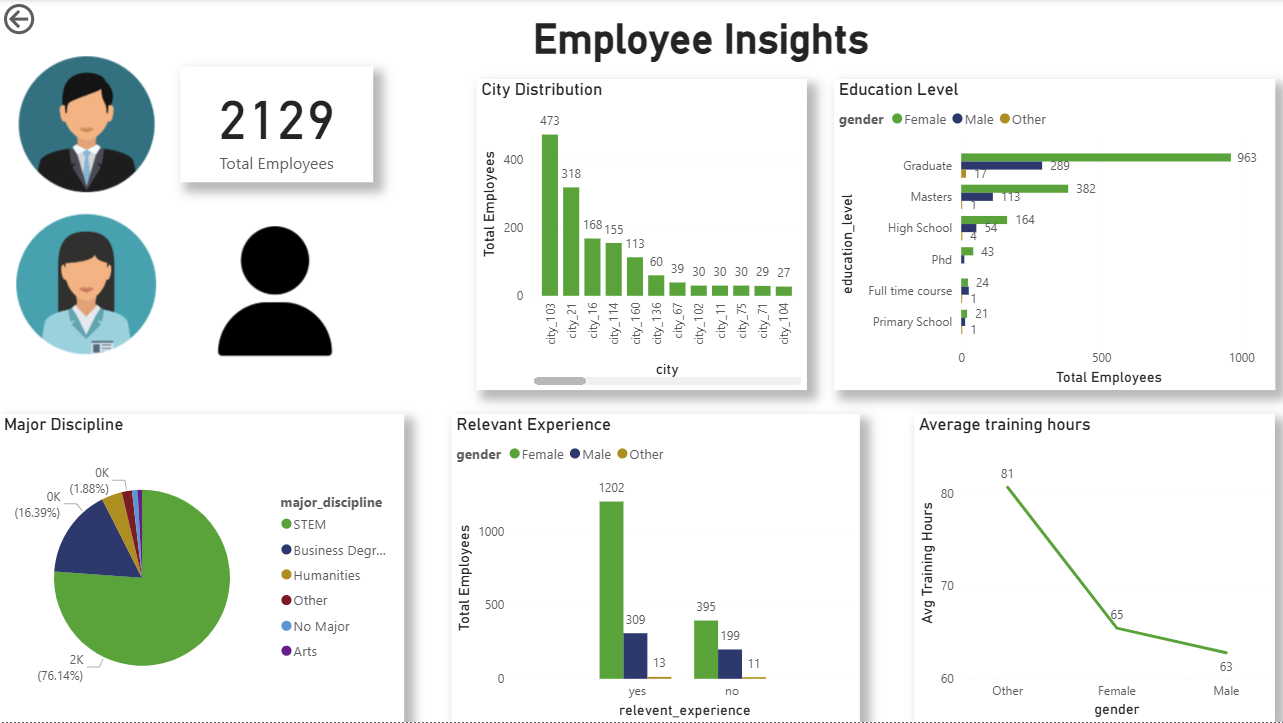

This screenshot's page, from the dashboard's own definition file:
{"tool":"powerbi","page":{"name":"Page 1","canvas":[1280,720],"ordinal":0},"visuals":[{"type":"columnChart","title":"City Distribution","fields":{"Y":["aug_test.Total Employees"],"Category":["aug_test.city"]},"box":[475.2,79.6,328.4,309.7],"z":0},{"type":"clusteredBarChart","title":"Education Level","fields":{"Category":["aug_test.education_level"],"Y":["aug_test.Total Employees"],"Series":["aug_test.gender"]},"box":[831,79.6,439.1,309.7],"z":1000},{"type":"actionButton","box":[0,0,100,40],"z":2000},{"type":"pieChart","title":"Major Discipline","fields":{"Category":["aug_test.major_discipline"],"Y":["aug_test.Total Employees"]},"box":[0,413,403,307.3],"z":3000},{"type":"clusteredColumnChart","title":"Relevant Experience","fields":{"Y":["aug_test.Total Employees"],"Category":["aug_test.relevent_experience"],"Series":["aug_test.gender"]},"box":[450.3,413,406.8,307.3],"z":4000},{"type":"lineChart","title":"Average training hours","fields":{"Y":["aug_test.Avg Training Hours"],"Category":["aug_test.gender"]},"box":[910.6,413,359.5,307.3],"z":5000},{"type":"card","fields":{"Values":["aug_test.Total Employees"]},"box":[179.8,67.2,192.1,115.3],"z":6000},{"type":"imageDB603108E3FF4EBFB8047F5653368E8C","fields":{"imageUrl":["Table (2).ImageUrl"],"imageTitle":["Table (2).gender"]},"box":[201.7,220.9,146.8,138.6],"z":7000},{"type":"card","fields":{"Values":["aug_test.Dashboard Title"]},"box":[435.4,0,537.4,70.9],"z":8000},{"type":"imageDB603108E3FF4EBFB8047F5653368E8C","fields":{"imageUrl":["Table (2).ImageUrl"],"imageTitle":["Table (2).gender"]},"box":[12.3,52.1,149.6,145.5],"z":8001},{"type":"imageDB603108E3FF4EBFB8047F5653368E8C","fields":{"imageUrl":["Table (2).ImageUrl"],"imageTitle":["Table (2).gender"]},"box":[12.3,207.2,149.6,152.3],"z":8002}]}

Visuals, with their boxes in screenshot pixels (x1, y1, x2, y2), scaled from the page's 1280x720 canvas onto the 1283x723 screenshot:
"City Distribution" columnChart: box=[476, 80, 805, 391]
"Education Level" clusteredBarChart: box=[833, 80, 1273, 391]
actionButton: box=[0, 0, 100, 40]
"Major Discipline" pieChart: box=[0, 415, 404, 722]
"Relevant Experience" clusteredColumnChart: box=[451, 415, 859, 722]
"Average training hours" lineChart: box=[913, 415, 1273, 722]
card - aug_test.Total Employees: box=[180, 67, 373, 183]
imageDB603108E3FF4EBFB8047F5653368E8C - Table (2).ImageUrl x Table (2).gender: box=[202, 222, 349, 361]
card - aug_test.Dashboard Title: box=[436, 0, 975, 71]
imageDB603108E3FF4EBFB8047F5653368E8C - Table (2).ImageUrl x Table (2).gender: box=[12, 52, 162, 198]
imageDB603108E3FF4EBFB8047F5653368E8C - Table (2).ImageUrl x Table (2).gender: box=[12, 208, 162, 361]
